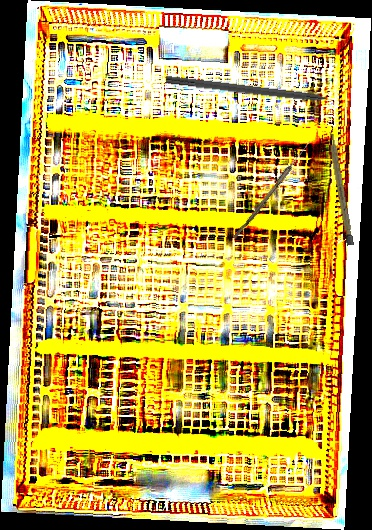Hook Surgical: (165, 74, 349, 109)
Scalpel Handle: (327, 131, 354, 246)
Surgical Spoon: (233, 139, 312, 241)
